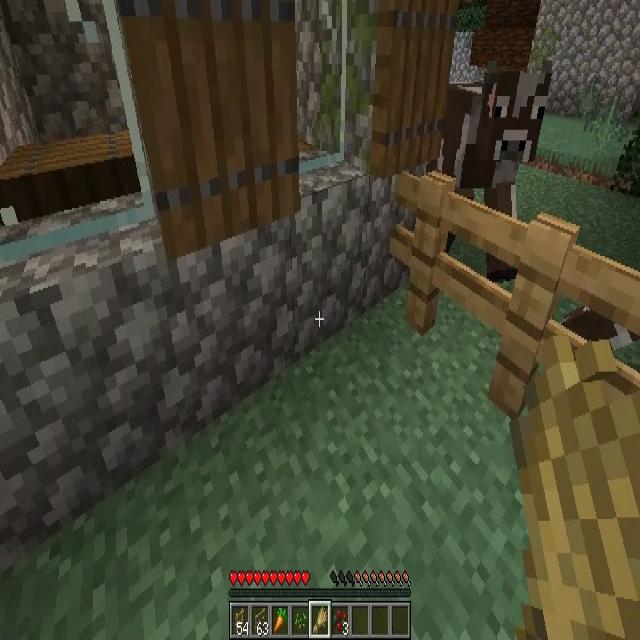cow: (439, 67, 555, 281)
